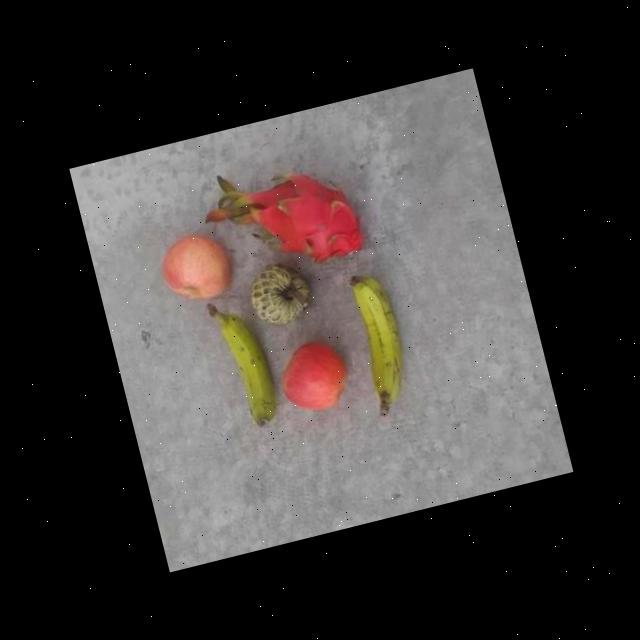Sakya fruit: (242, 256, 318, 331)
apple: (268, 331, 358, 423), (152, 224, 238, 313)
banana: (336, 266, 418, 405), (208, 295, 282, 428)
pitaya: (238, 156, 369, 282)
